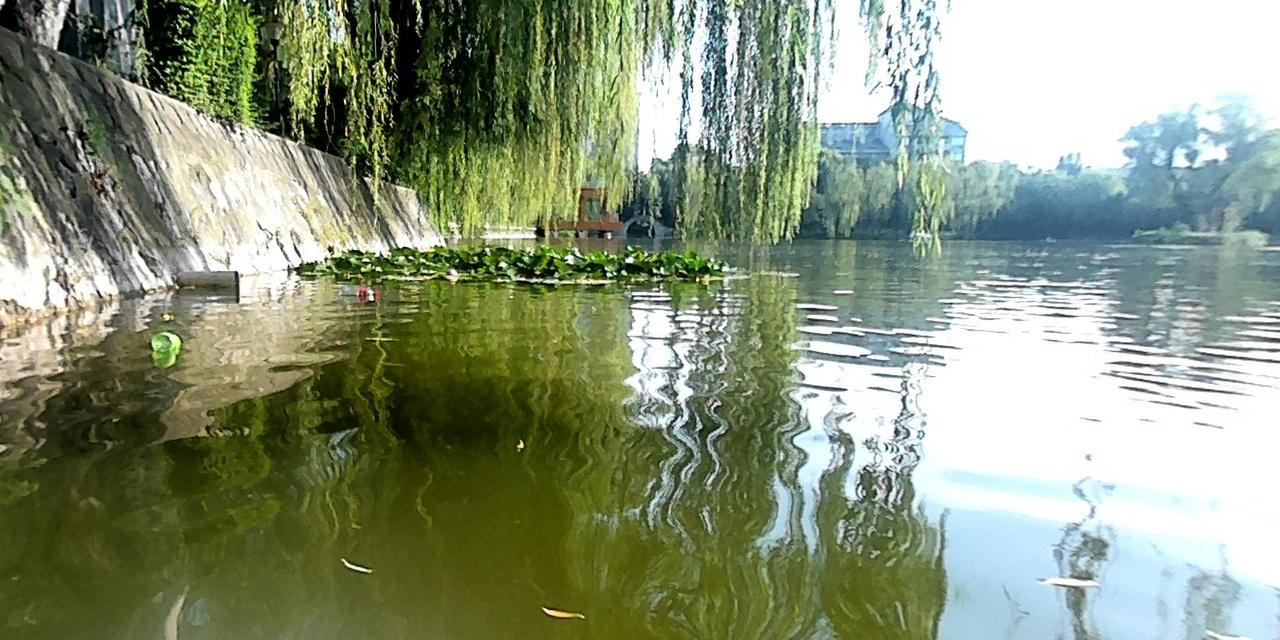bottle: (328, 284, 380, 299), (149, 329, 181, 352)
